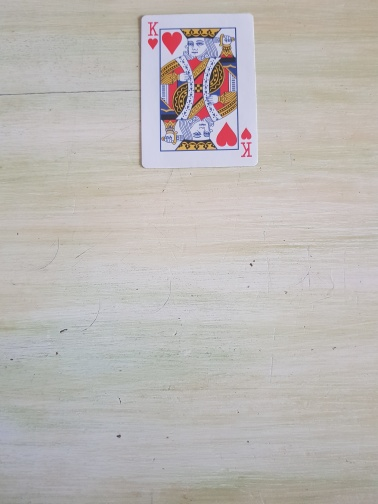king: (139, 12, 258, 169)
